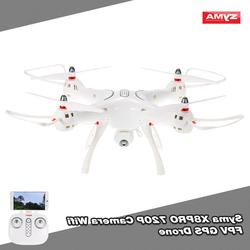drone: (5, 61, 246, 177)
